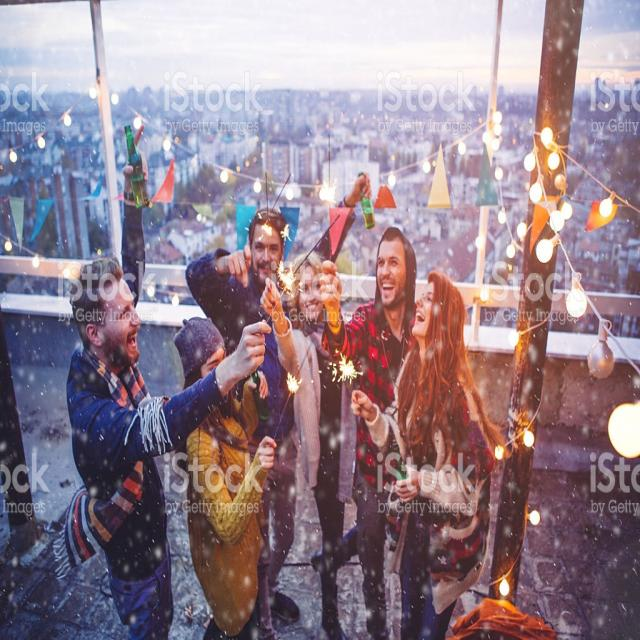body: (49, 116, 274, 640), (184, 165, 372, 639), (349, 268, 505, 639), (319, 225, 420, 639), (258, 252, 363, 639), (171, 313, 283, 639)
